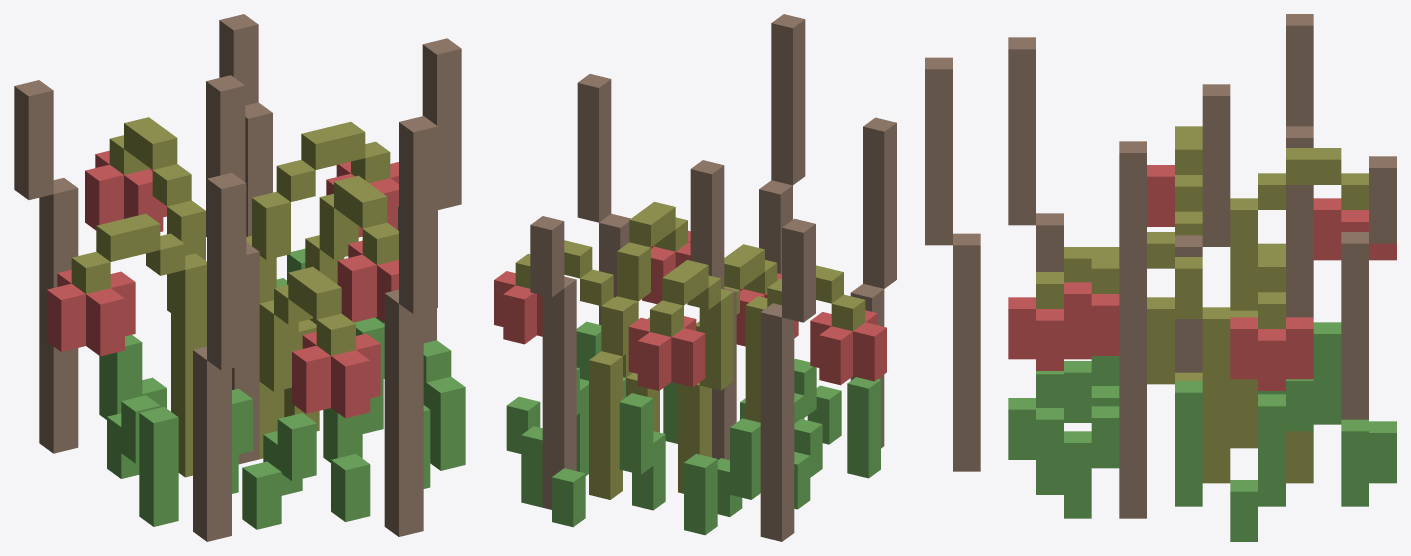
File: Grass_f_v1.fbx
The picture shows the model from 3 angles, left to right: view 1: azimuth 30°, elevation 25°; view 2: azimuth 150°, elevation 25°; view 3: azimuth 270°, elevation 25°; orthographic projection. The views are drawn at different scales.
Visible parts, largest first — view 1: grass_f; view 2: grass_f; view 3: grass_f.
Boxes of the visible parts, <box> form: grass_f: <box>14,14,465,541</box>; grass_f: <box>494,14,896,541</box>; grass_f: <box>925,14,1396,541</box>.
Bounding box in the file's own units: 16 × 16 × 17.
